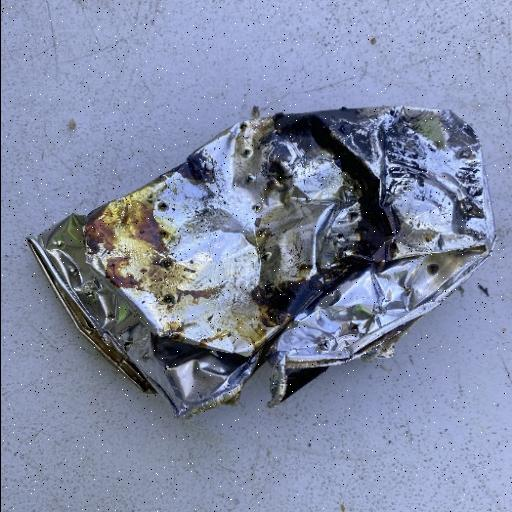Metal: (26, 103, 496, 419)
